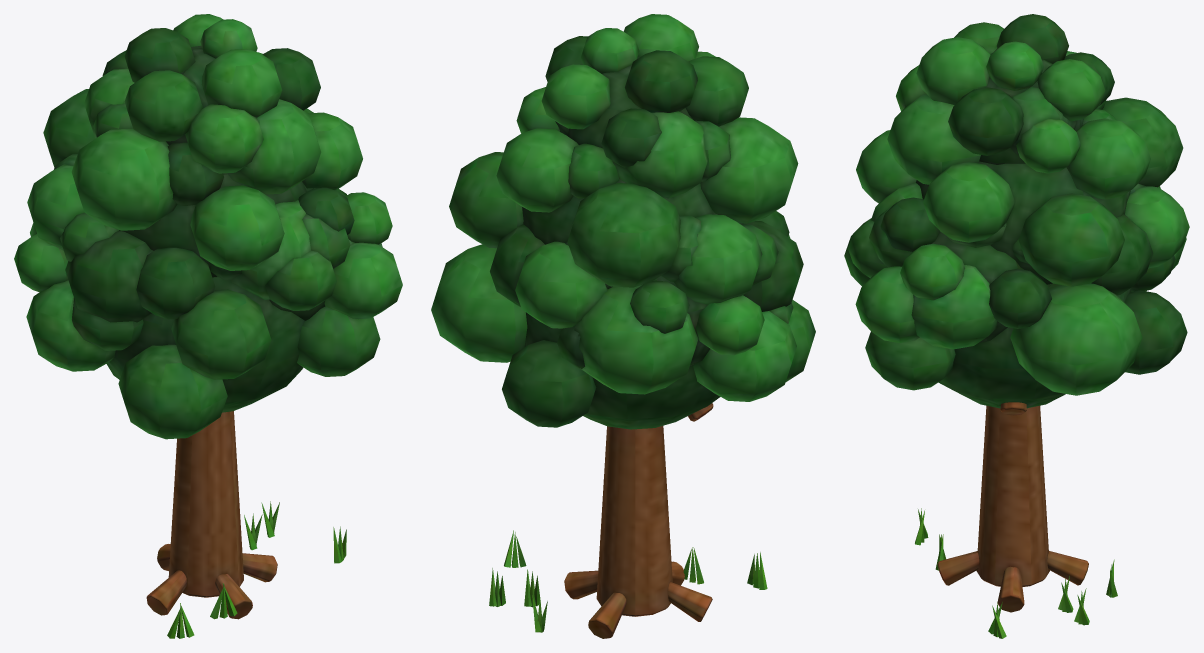
Rendered from lucuma_tree.glb.
3 renders of one model, left to right at view 1: azimuth 30°, elevation 25°; view 2: azimuth 150°, elevation 25°; view 3: azimuth 270°, elevation 25°, orthographic. The views are drawn at different scales.
Visible parts, largest first — view 1: crown, lucuma_tree; view 2: crown, lucuma_tree; view 3: crown, lucuma_tree.
Boxes of the visible parts, x1,y1,x2,y2 form: crown: (14,14,402,439); lucuma_tree: (146,411,346,638); crown: (431,14,815,429); lucuma_tree: (489,403,767,638); crown: (844,14,1189,408); lucuma_tree: (915,402,1117,638).
Size of the model in its own units: 0.8885 by 1.48 by 0.8402.
Materials: 1 (1 with a texture image).
